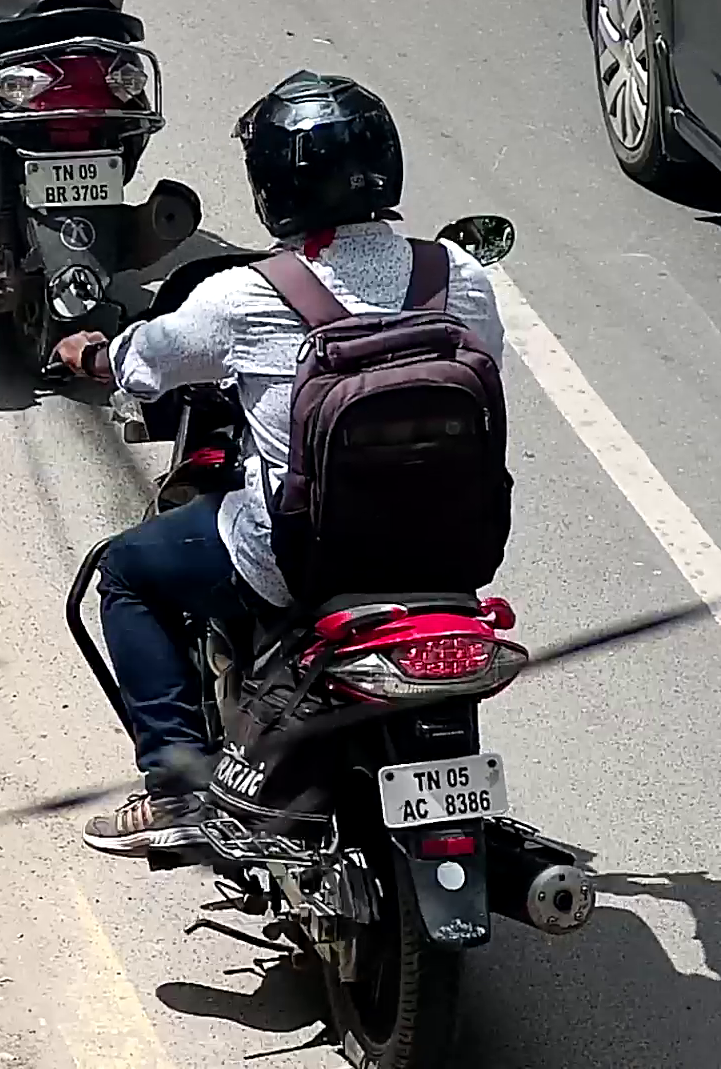0: (446, 768, 457, 788)
3: (457, 793, 467, 814)
5: (458, 766, 469, 787)
6: (479, 789, 491, 811)
8: (445, 794, 456, 816), (468, 791, 478, 813)
A: (402, 799, 416, 821)
C: (416, 797, 429, 819)
N: (427, 769, 441, 790)
P16: (377, 751, 509, 831)
T: (412, 772, 426, 792)
